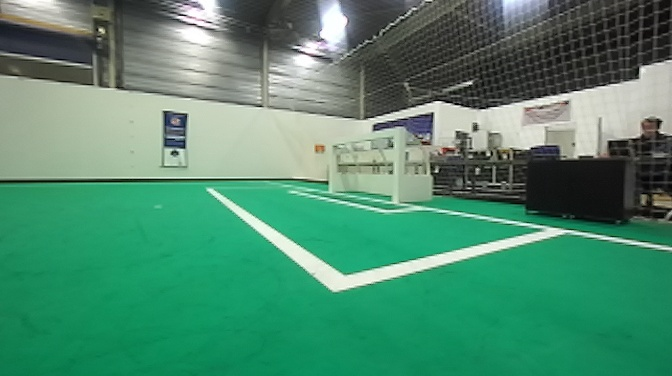goalpost: (382, 128, 411, 210), (323, 135, 337, 194)
